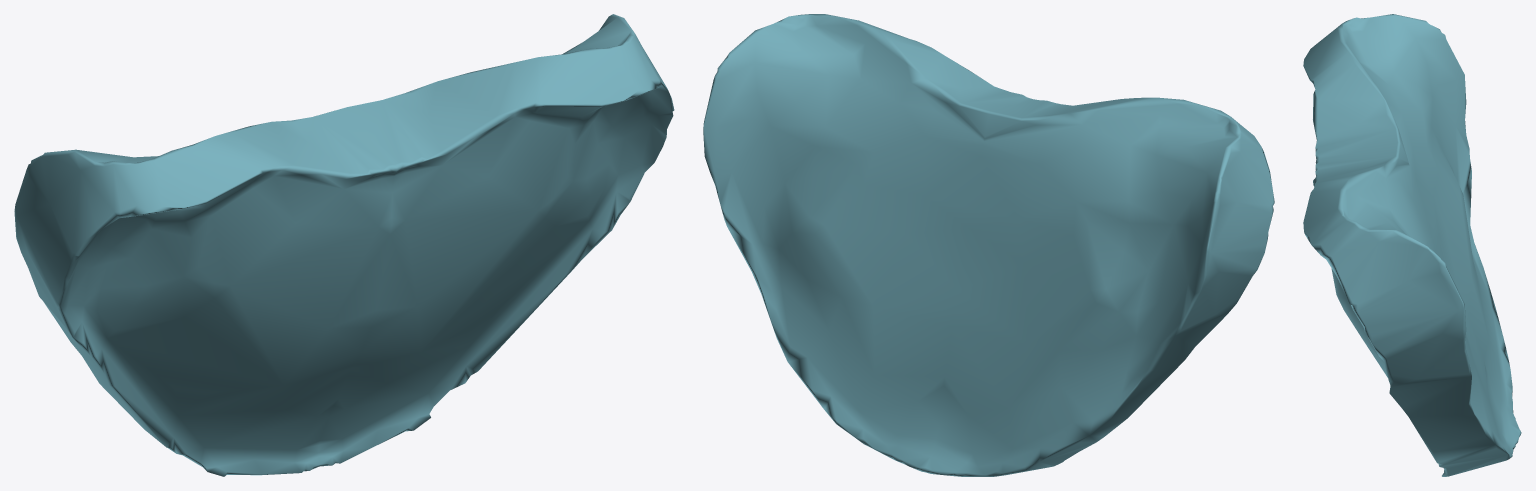
The picture shows the model from 3 angles, left to right: view 1: azimuth 30°, elevation 25°; view 2: azimuth 150°, elevation 25°; view 3: azimuth 270°, elevation 25°; orthographic projection. The views are drawn at different scales.
Visible parts, largest first — view 1: 胸2—胸3椎间盘; view 2: 胸2—胸3椎间盘; view 3: 胸2—胸3椎间盘.
Part boxes in pixels (x1,y1,x2,y2): 胸2—胸3椎间盘: (14,14,674,476); 胸2—胸3椎间盘: (703,14,1274,476); 胸2—胸3椎间盘: (1303,14,1521,476).
Size of the model in its own units: 0.0507 by 0.0333 by 0.0196.
